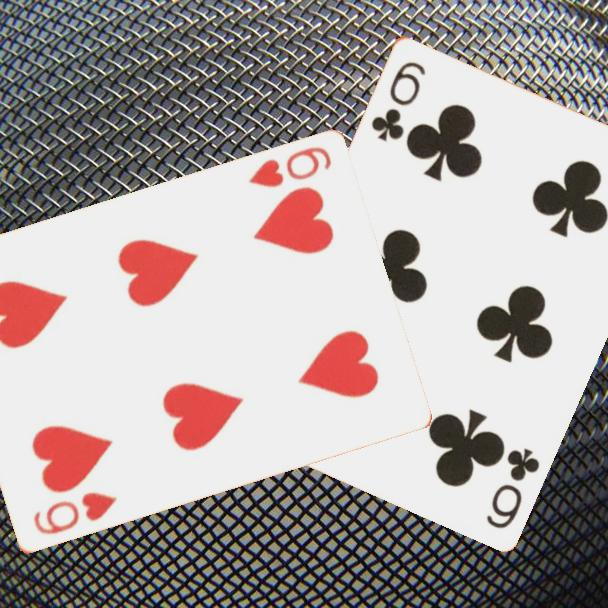c06: (367, 57, 429, 144), (482, 443, 542, 531)
h06: (29, 489, 120, 538), (244, 144, 334, 191)
